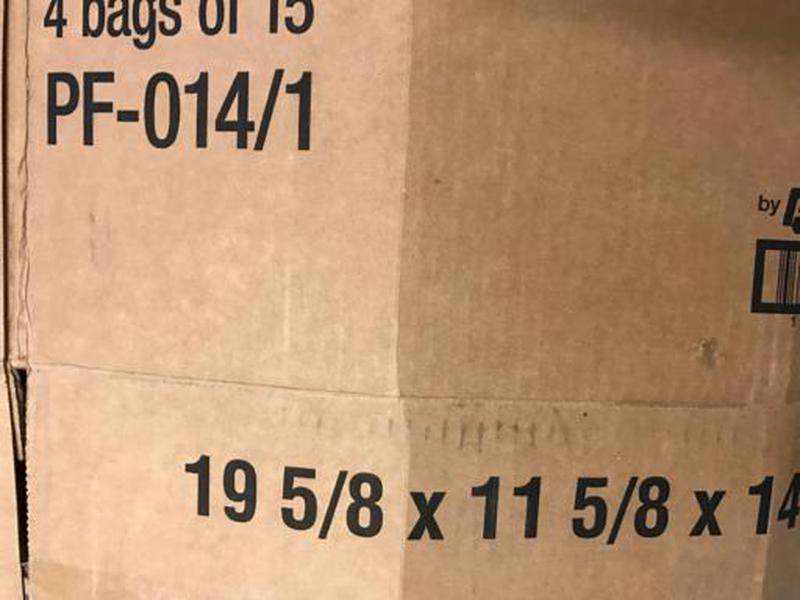cardboard: (7, 1, 799, 600)
